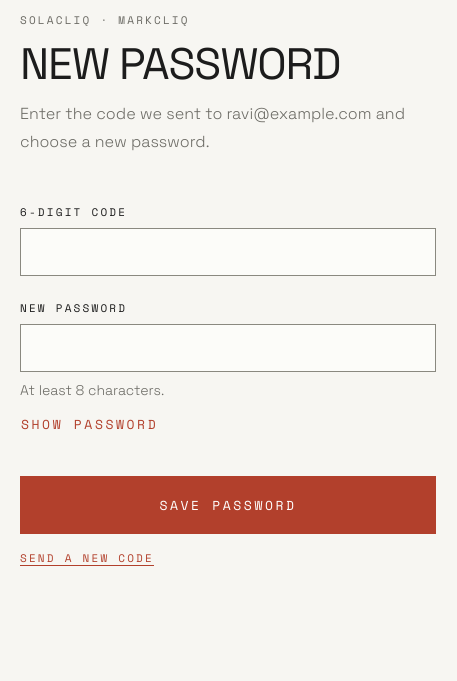
Test: password reset › a wrong code says so
In the field labelled "6-digit code": (228, 252) [20,228,436,276], type "111111"
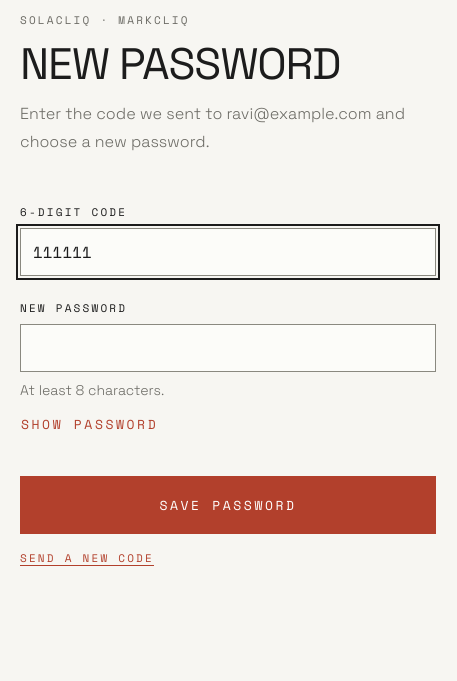
In the password field labelled "New password": (228, 348) [20,324,436,372], type "new password"
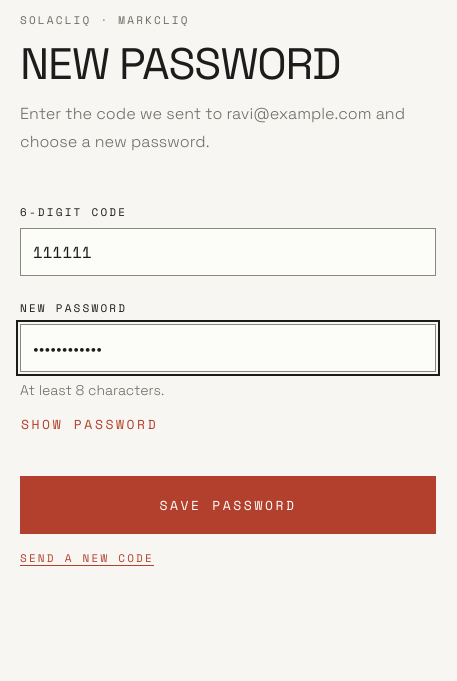
Click the button "Save password": (228, 505) [20,476,436,534]
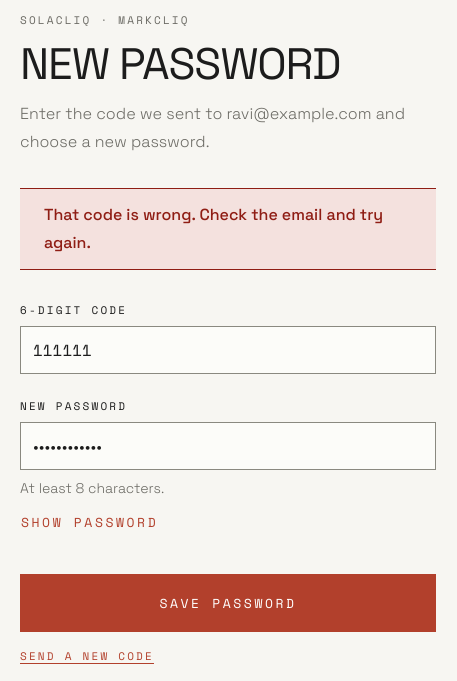
Check: the message shows "That code is wrong.", box [44,204,383,253]
